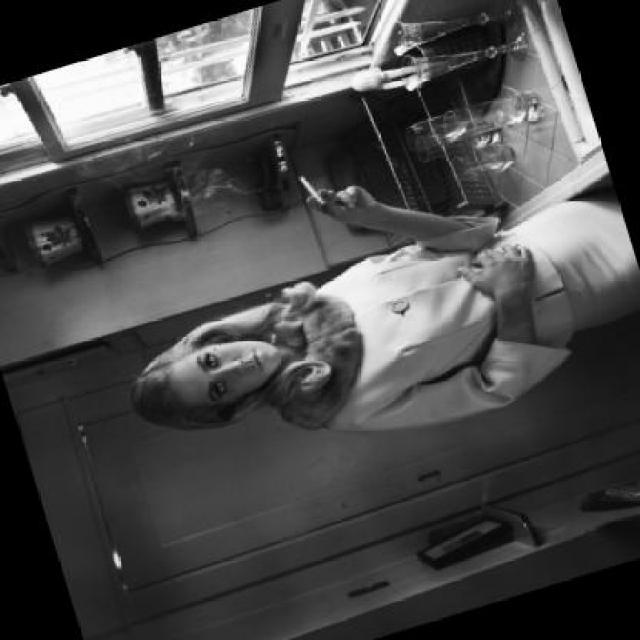cigarette: (294, 166, 326, 209)
